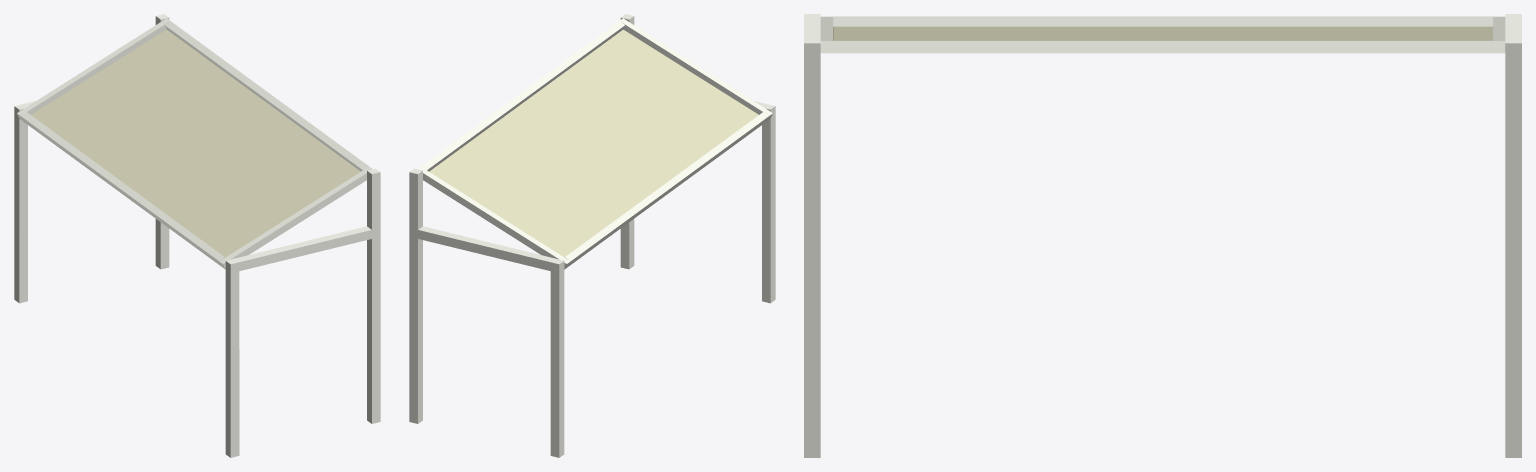
File: RAAL_op50.dae
3 views of the same model, side by side, from view 1: azimuth 30°, elevation 25°; view 2: azimuth 150°, elevation 25°; view 3: azimuth 270°, elevation 25° (orthographic). The views are drawn at different scales.
Visible parts, largest first — view 1: RAAL_op50; view 2: RAAL_op50; view 3: RAAL_op50.
Boxes of the visible parts, x1,y1,x2,y2 form: RAAL_op50: (14, 14, 380, 457); RAAL_op50: (409, 14, 775, 457); RAAL_op50: (804, 14, 1521, 457).
Size of the model in its own units: 0.7088 by 1.74 by 1.11.
Materials: 2 (2 with a texture image).
